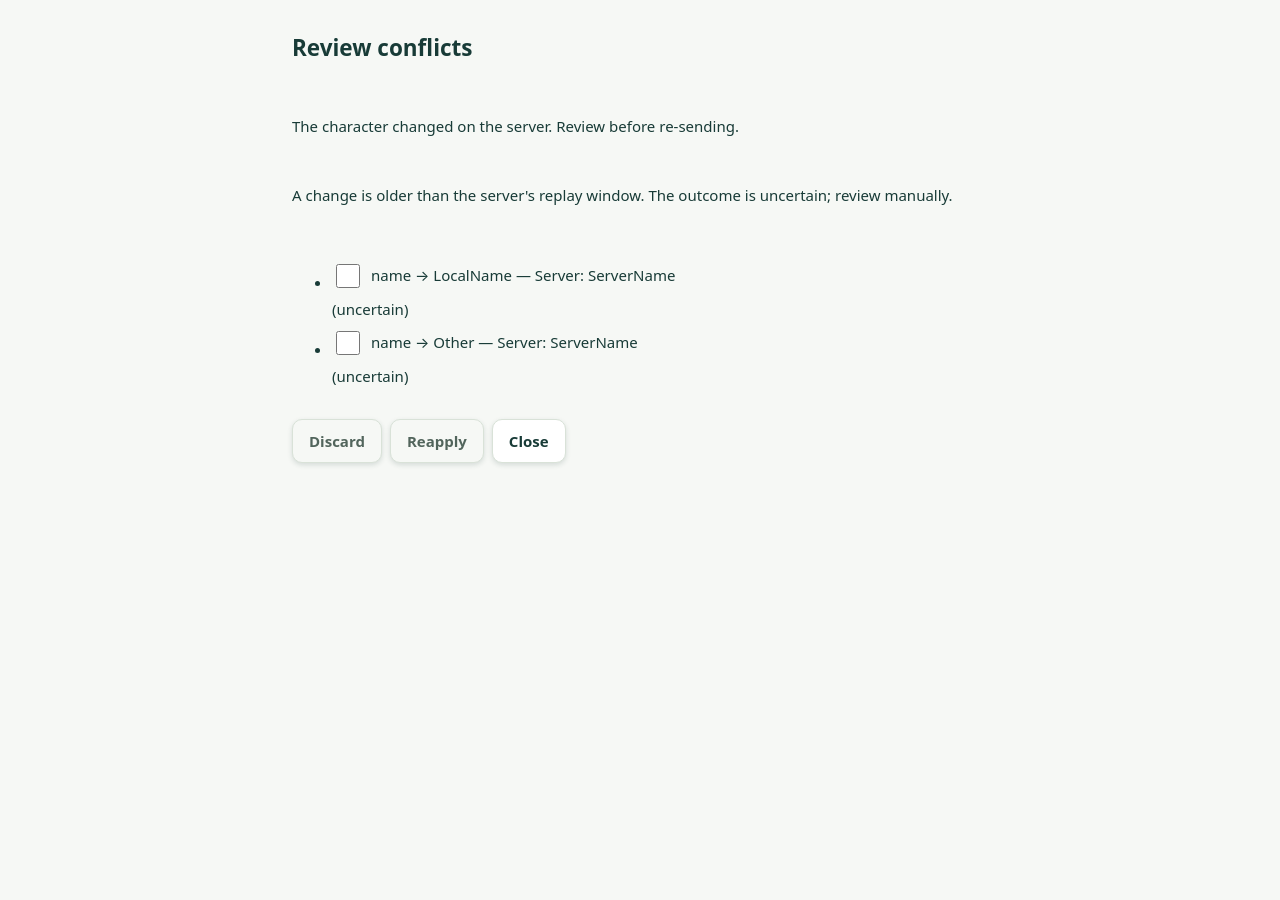
it: ConflictReview › names dependent queued entries following the selection in the confirm dialog
The width and height of the screenshot is (1280, 900).
Click the checkbox labelled "name → LocalName — Server: ServerName" at (348, 276), box top-left (336, 264), bottom-right (360, 288)
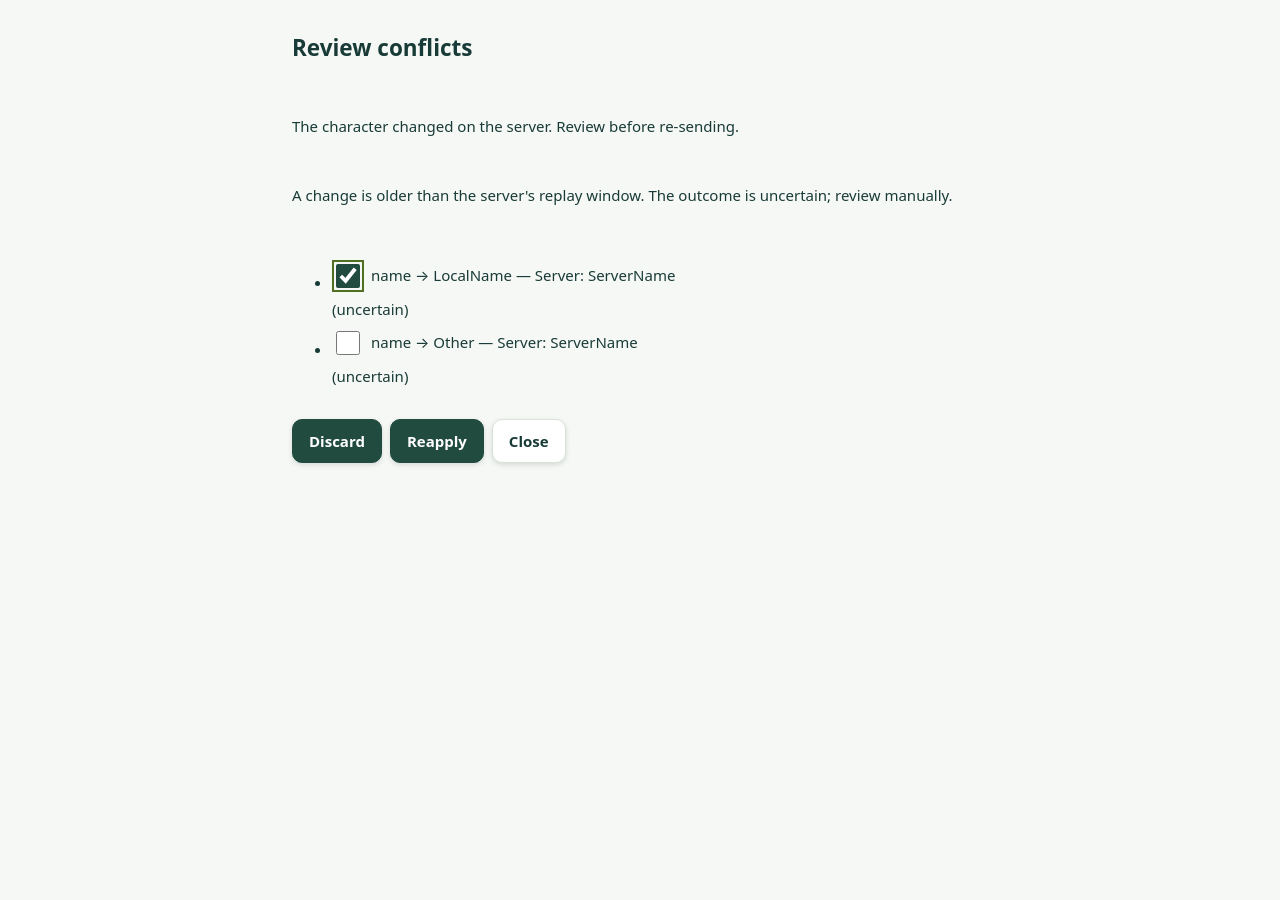
Click the button "Reapply" at (437, 441), box top-left (390, 419), bottom-right (484, 463)
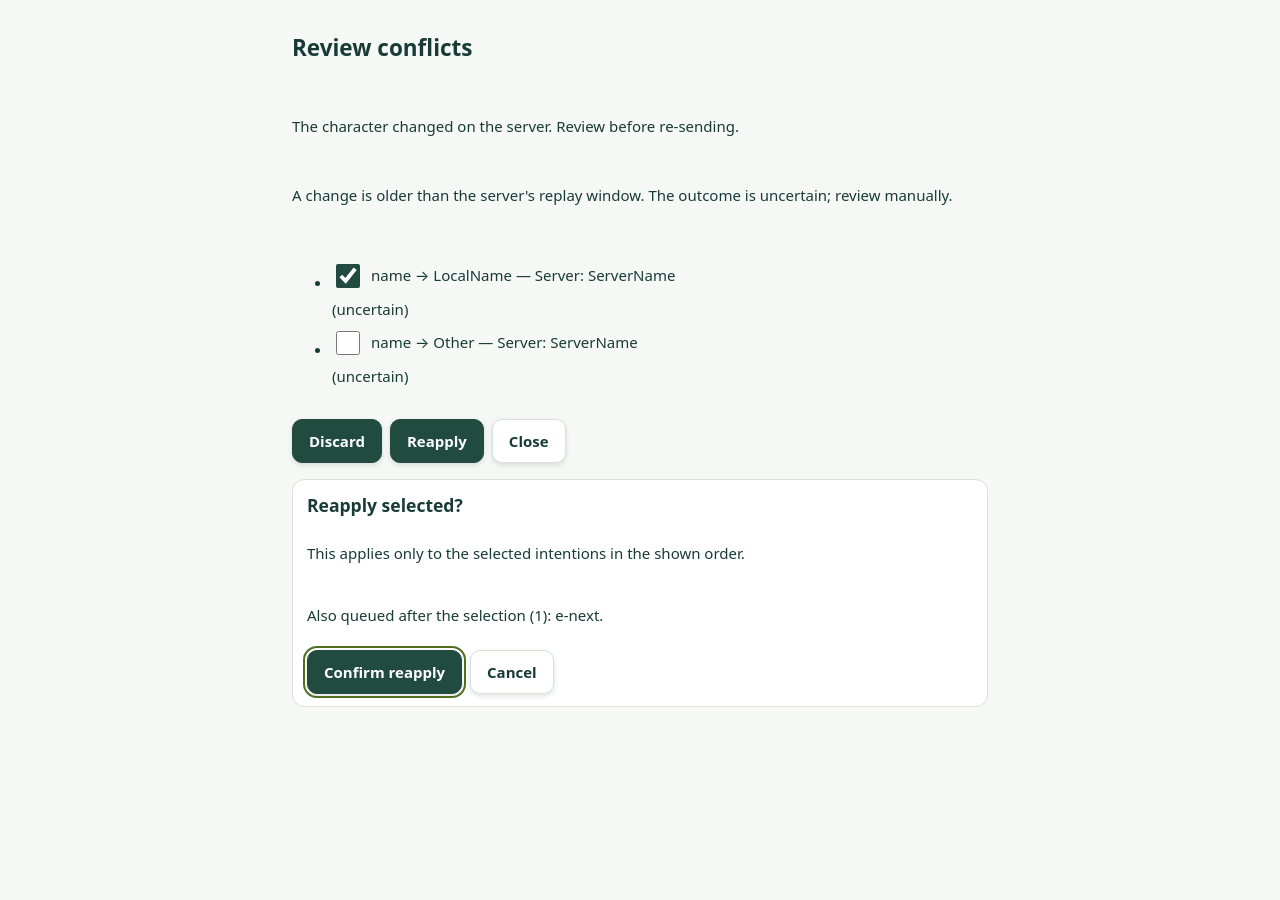
Expected: the dialog is shown, top-left (292, 479), bottom-right (988, 707)
Expected: the text "Also queued after the selection (1): e-next." is shown, top-left (307, 605), bottom-right (603, 625)
